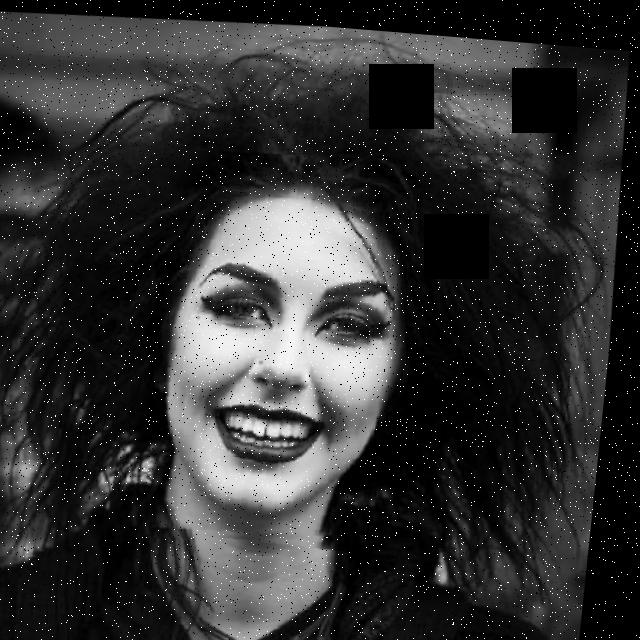happy: (111, 134, 436, 553)
